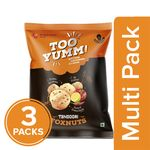plastic: (26, 25, 114, 138)
tooyumm: (41, 37, 89, 61)
wrapper: (24, 23, 115, 140)
